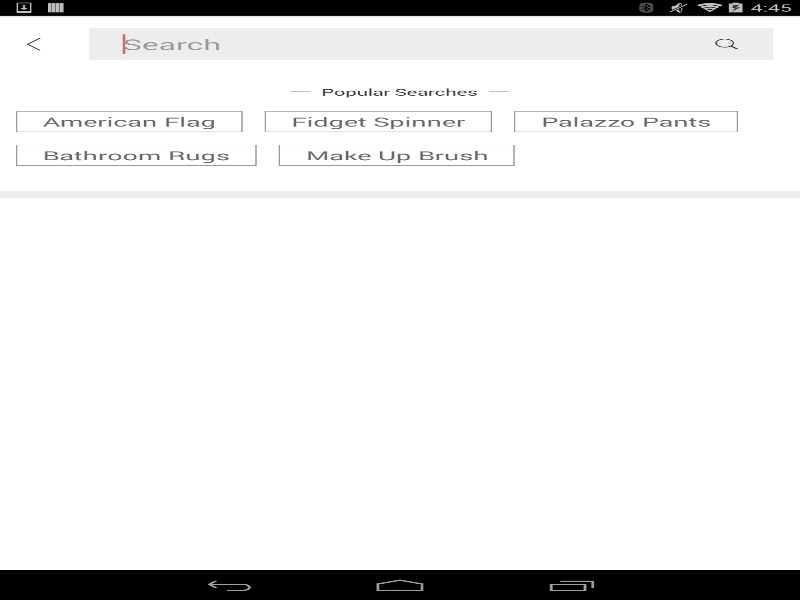Input: (89, 28, 773, 60)
